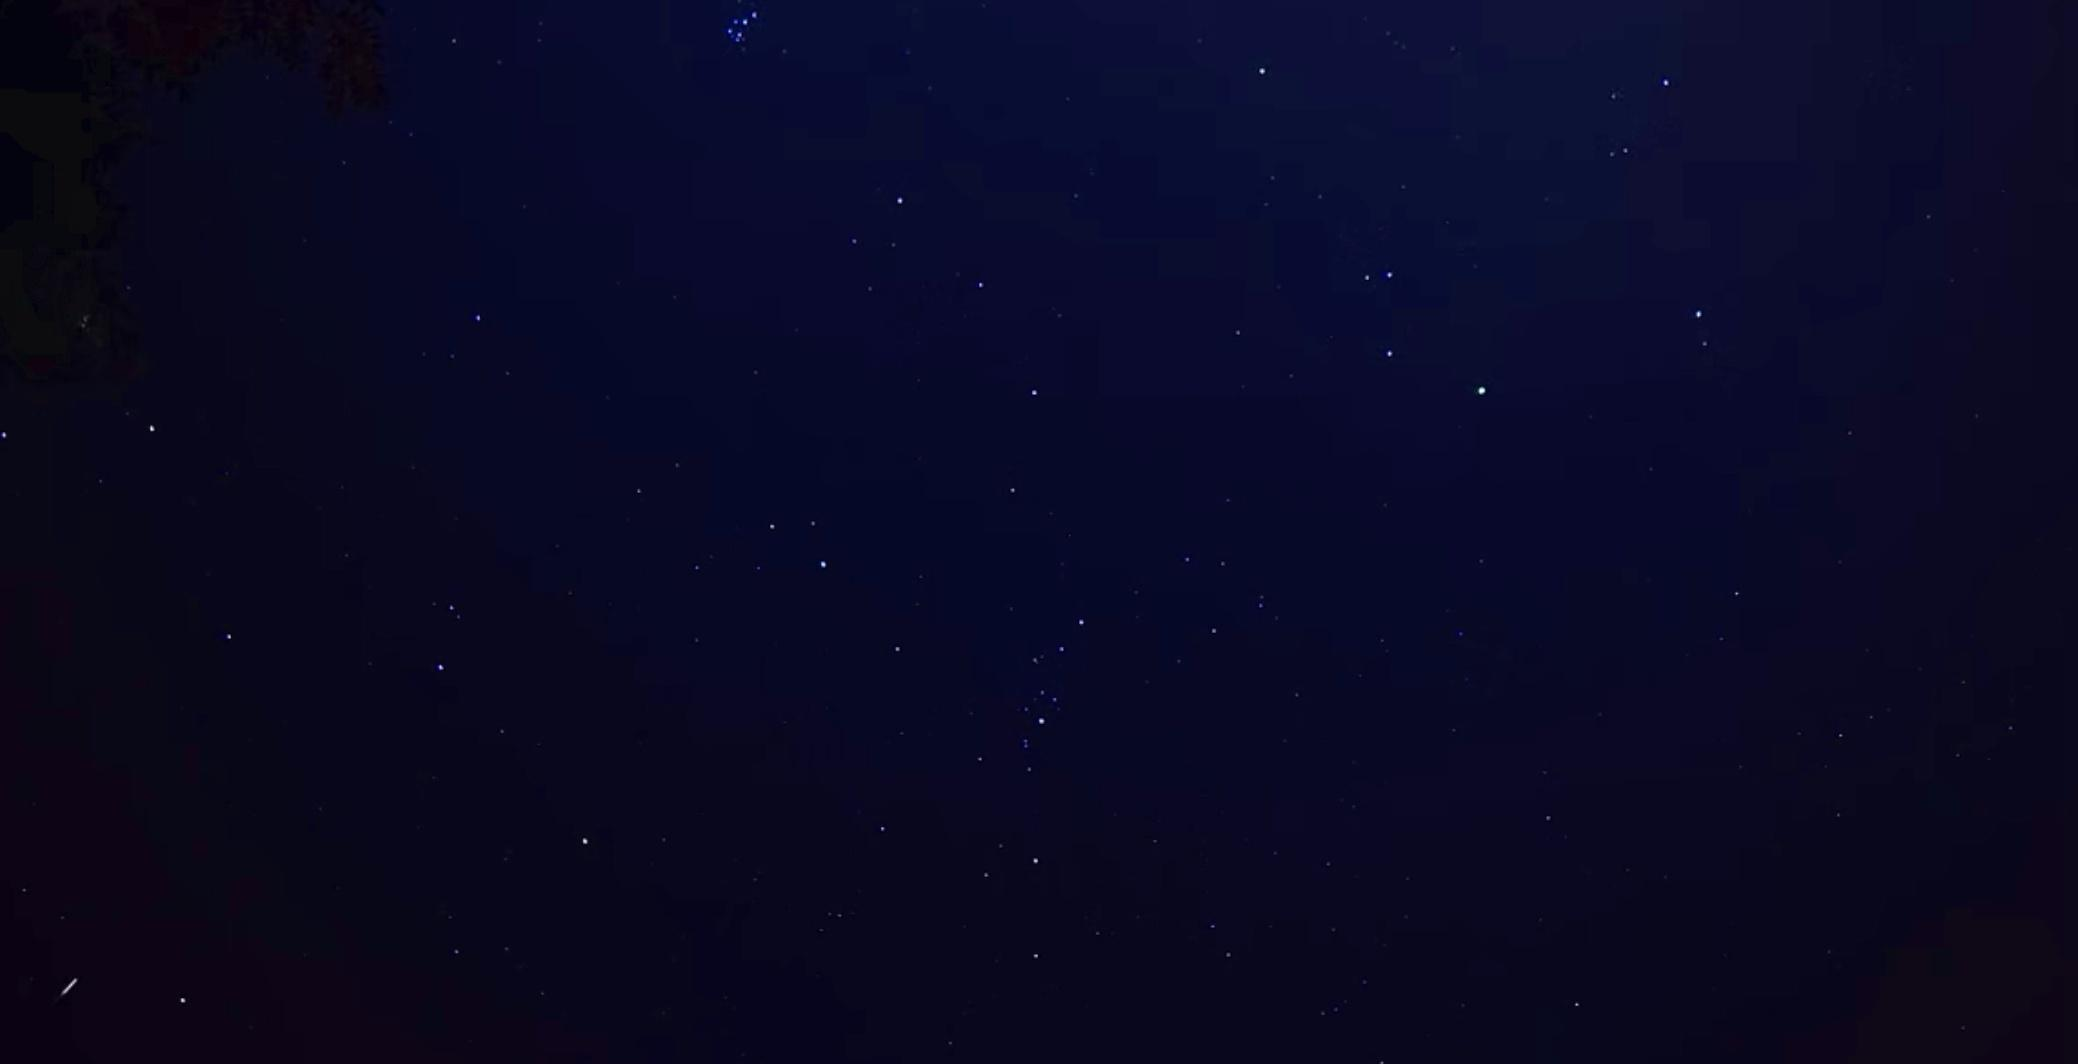meteorite: (14, 968, 126, 1008)
